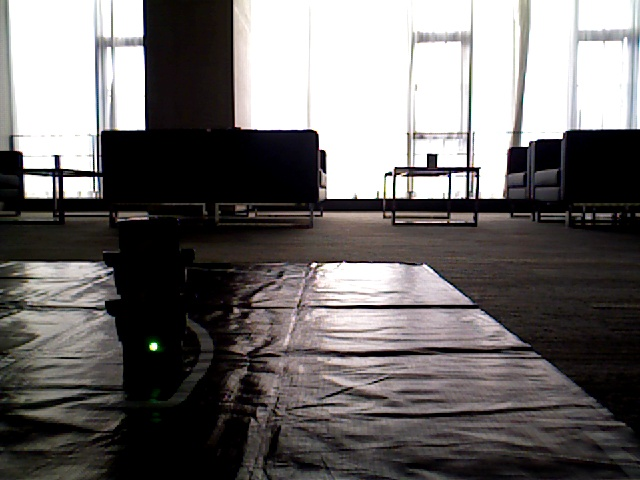green: (126, 228, 178, 364)
